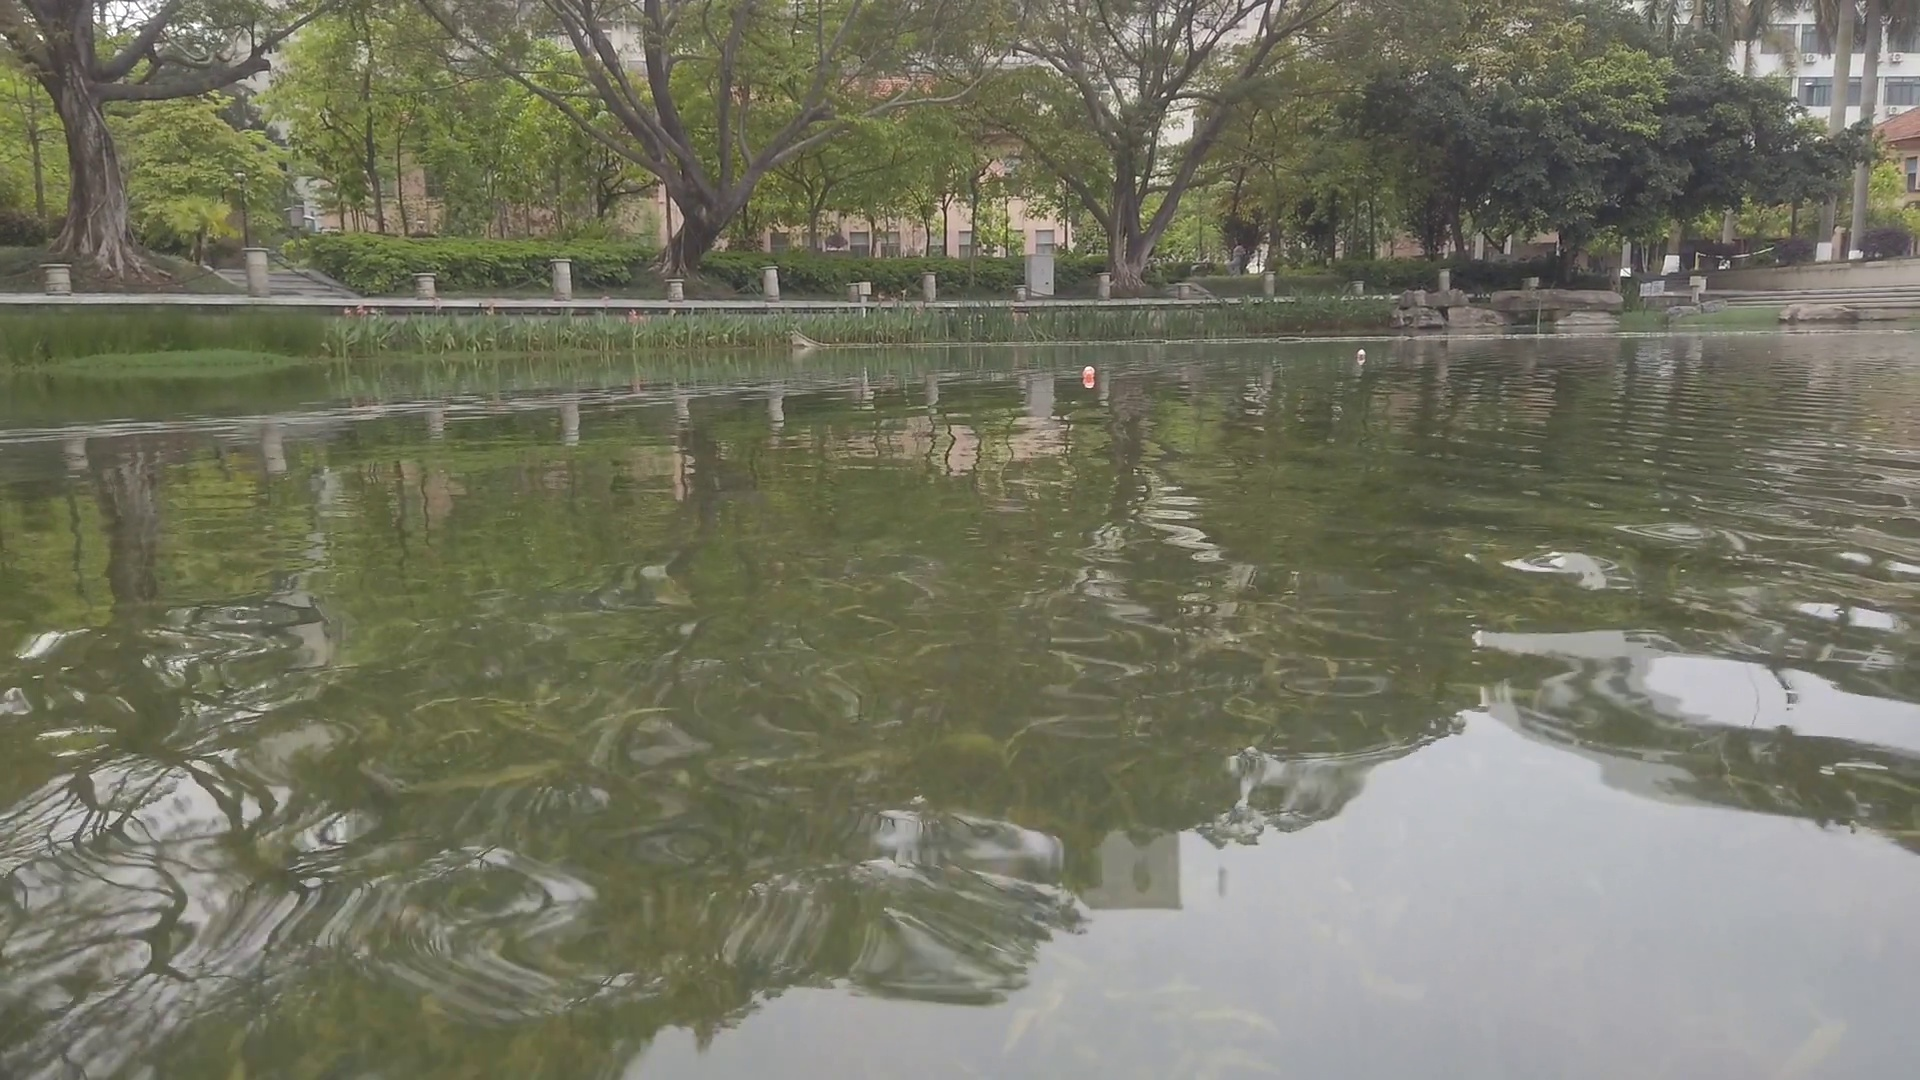bottle: (1081, 367, 1095, 381), (1356, 348, 1366, 359)
